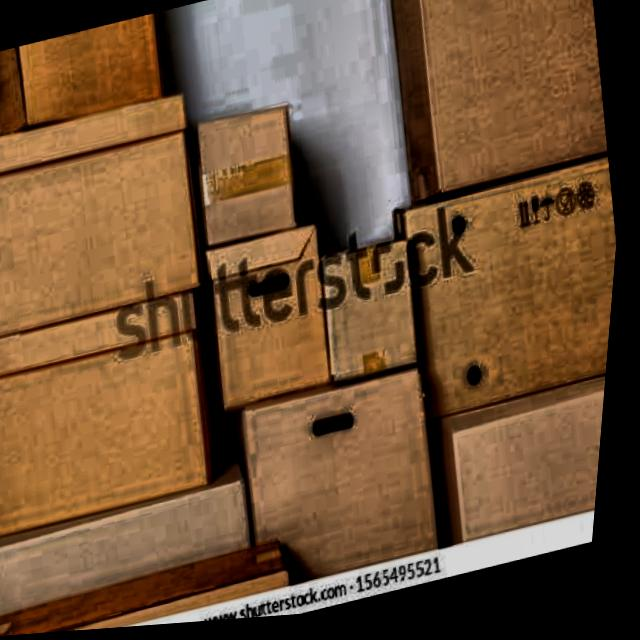Cardbox: (0, 256, 251, 550), (379, 167, 627, 436), (0, 77, 228, 351), (351, 0, 624, 218), (235, 359, 461, 604), (191, 212, 351, 415), (432, 382, 613, 556), (172, 89, 325, 259), (0, 11, 181, 150), (304, 218, 437, 405)
